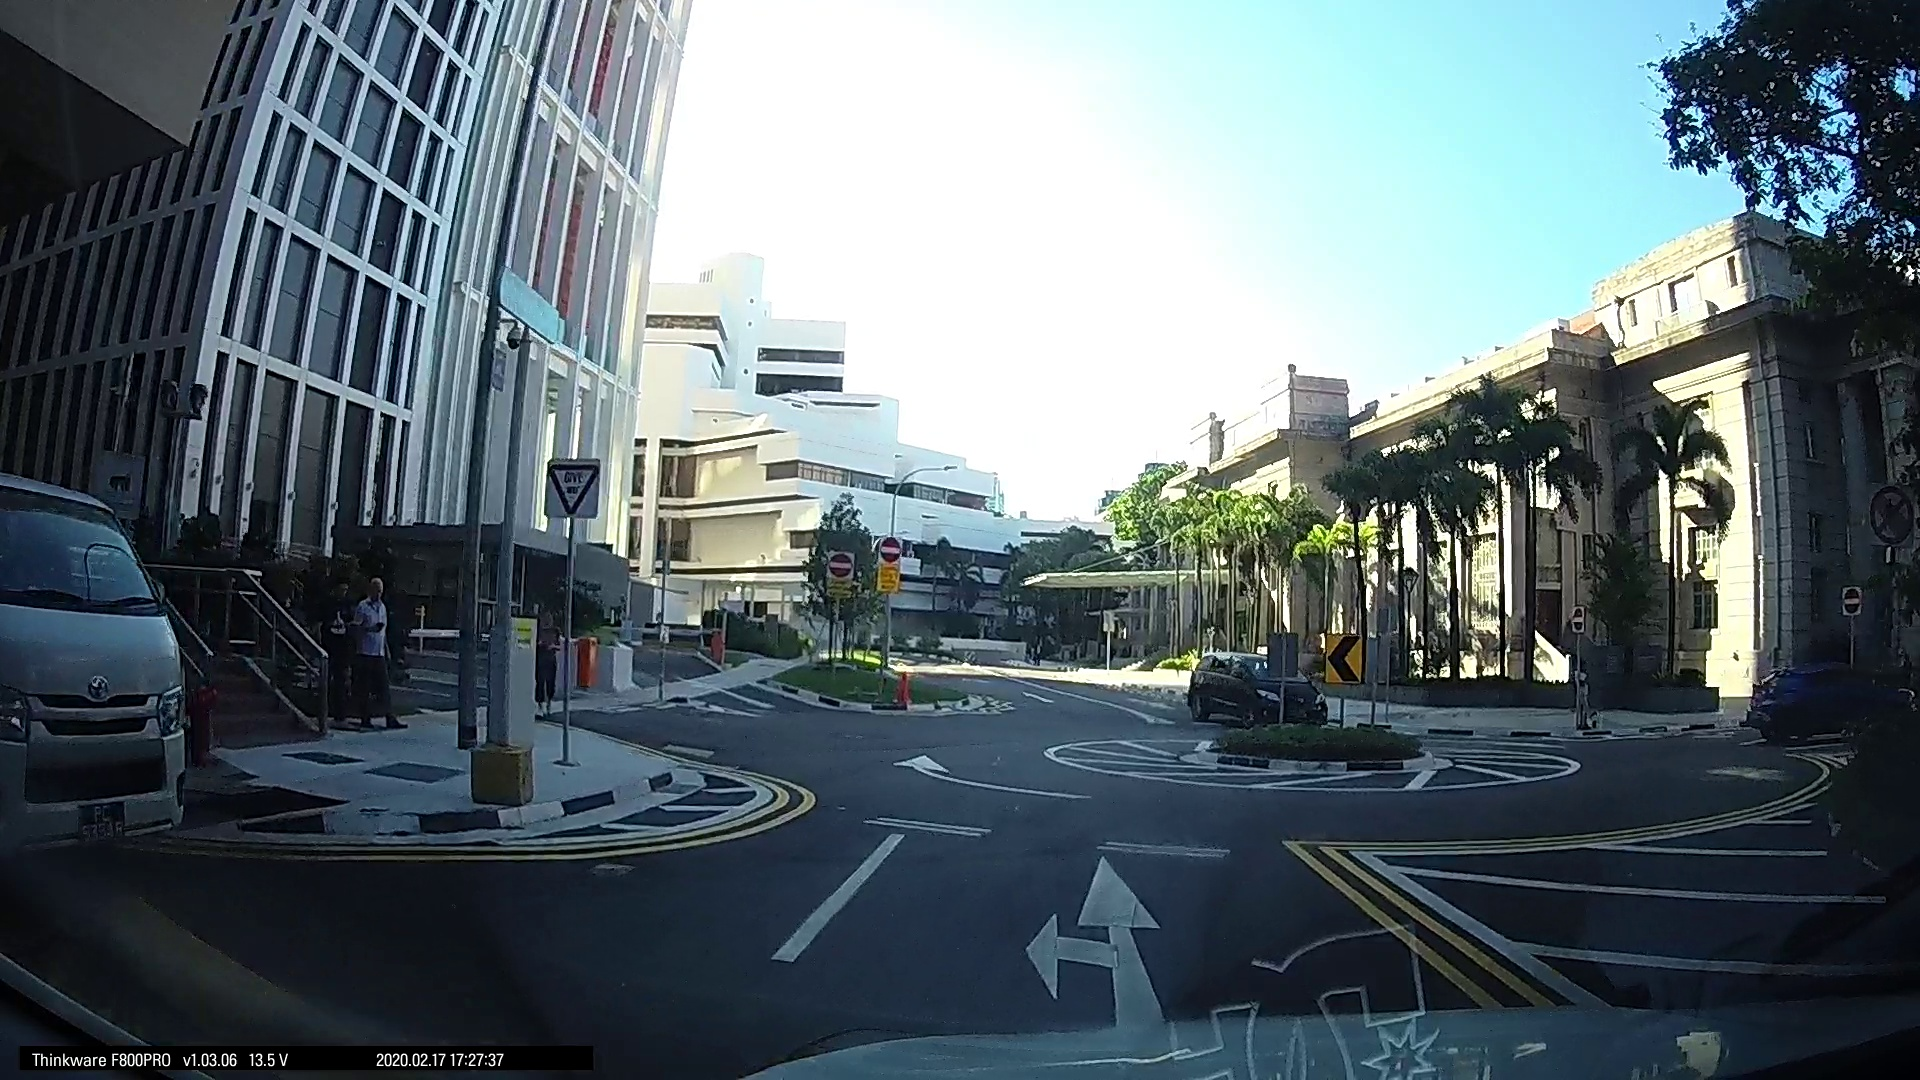Heavy Vehicle: (1, 458, 200, 876)
Light Vehicle: (1, 452, 207, 873)
